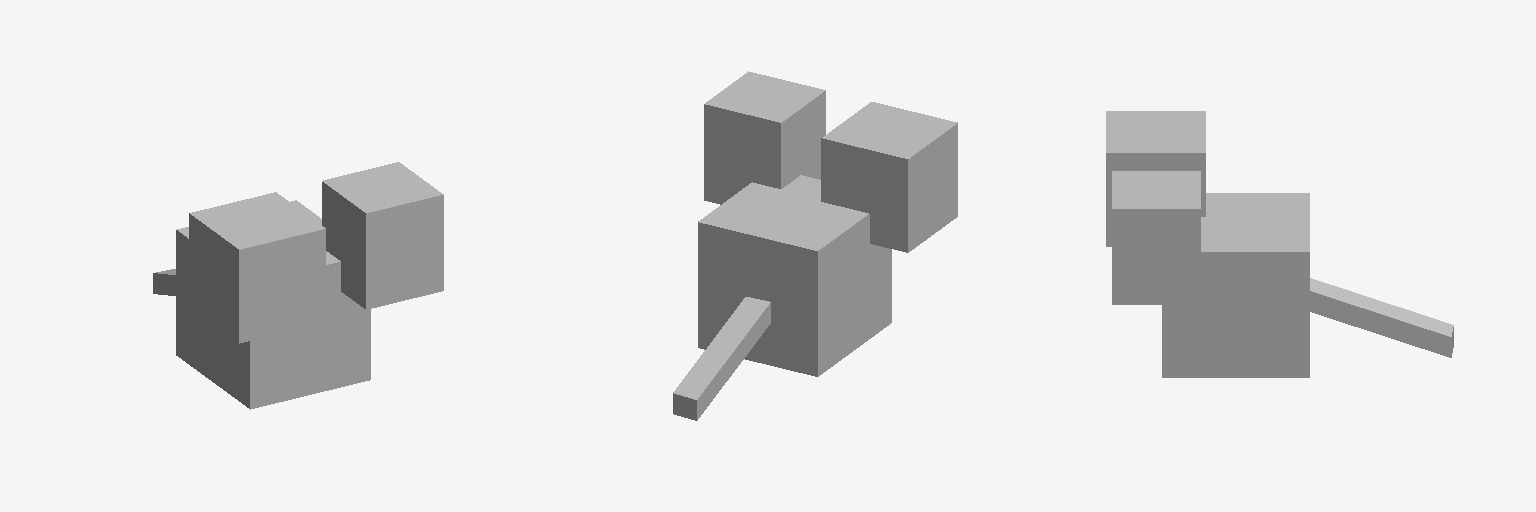
The model's file is chien.obj.
3 views of the same model, side by side, from view 1: azimuth 30°, elevation 25°; view 2: azimuth 150°, elevation 25°; view 3: azimuth 270°, elevation 25° (orthographic).
Parts seen in each view (by area): view 1: ungrouped; view 2: ungrouped; view 3: ungrouped.
Boxes of the visible parts, box(x1,y1,x2,y2) form: ungrouped: box(153, 162, 443, 409); ungrouped: box(673, 71, 957, 420); ungrouped: box(1106, 111, 1453, 377).
Bounding box in the file's own units: 27.63 × 24.92 × 40.17.